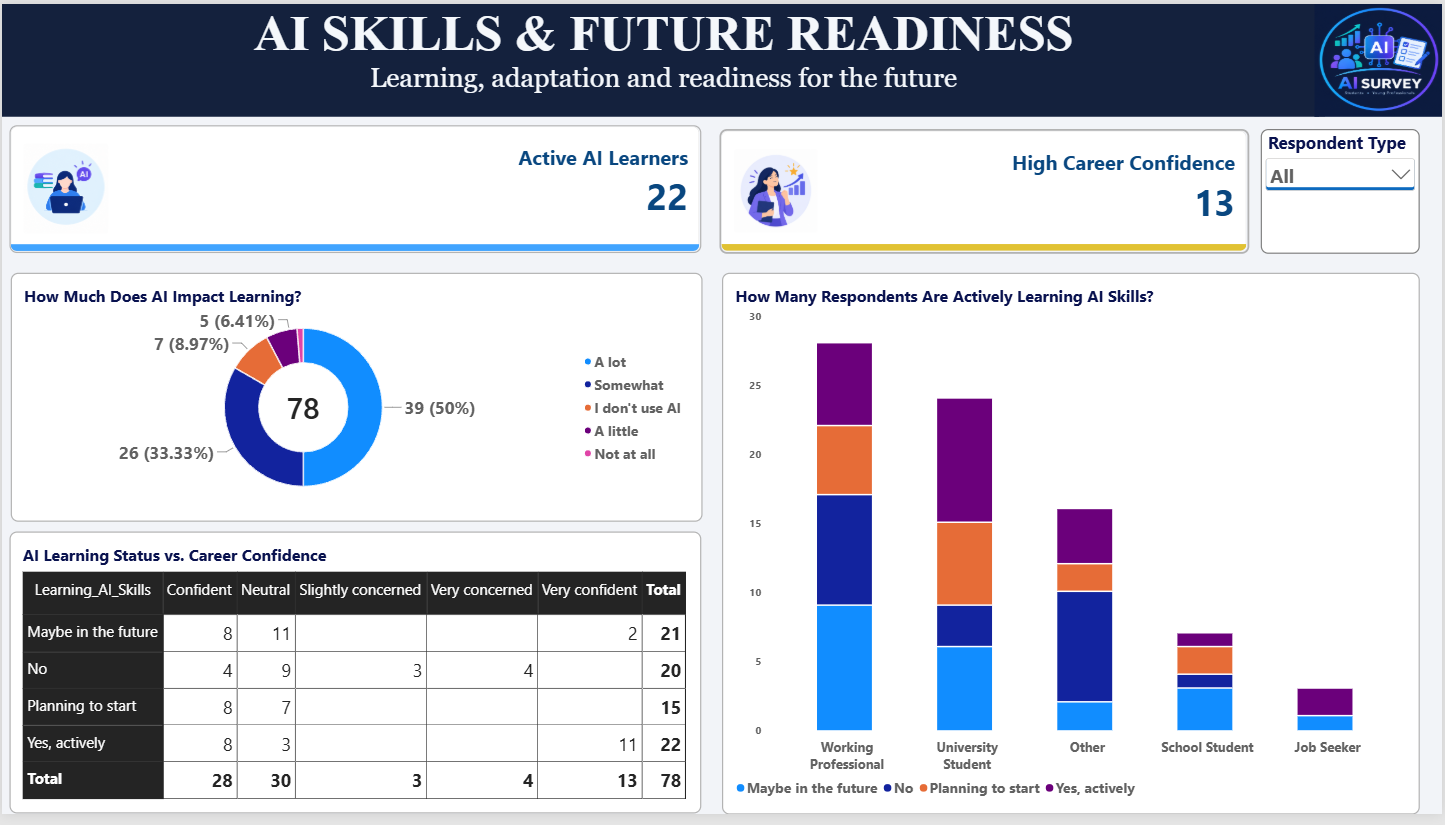

What the dashboard file says about the page in this screenshot:
{"tool":"powerbi","page":{"name":"AI Skills & Future Readiness","canvas":[1920,1080],"ordinal":3},"visuals":[{"type":"textbox","title":"AI SKILLS & FUTURE READINESS","box":[0,0,1764,96],"z":0},{"type":"textbox","title":"Learning, adaptation and readiness for the future","box":[0,78,1764,72],"z":1000},{"type":"cardVisual","fields":{"Data":["AI Survey.Active AI Learners"]},"box":[10,162,922,170],"z":2000},{"type":"cardVisual","fields":{"Data":["AI Survey.High Career Confidence"]},"box":[956,166,706,166],"z":3000},{"type":"donutChart","title":"How Much Does AI Impact Learning? ","fields":{"Category":["AI Survey.AI_Learning_Impact "],"Y":["CountNonNull(AI Survey.Respondent_ID)"]},"box":[12,358,922,332],"z":4000},{"type":"columnChart","title":"How Many Respondents Are Actively Learning AI Skills?","fields":{"Category":["AI Survey.Respondent_Type "],"Series":["AI Survey.Learning_AI_Skills "],"Y":["CountNonNull(AI Survey.Respondent_ID)"]},"box":[960,358,930,722],"z":5000},{"type":"pivotTable","title":"AI Learning Status vs. Career Confidence","fields":{"Columns":["AI Survey.Career_Confidence "],"Rows":["AI Survey.Learning_AI_Skills "],"Values":["CountNonNull(AI Survey.Respondent_ID)"]},"box":[10,704,922,376],"z":6000},{"type":"image","box":[1750,0,170.9,150],"z":7000},{"type":"slicer","fields":{"Values":["AI Survey.Respondent_Type "]},"box":[1678,166,212,166],"z":8000}]}

Visuals, with their boxes in screenshot pixels (x1, y1, x2, y2), scaled from the page's 1920x1080 canvas onto the 1445x825 screenshot:
"AI SKILLS & FUTURE READINESS" textbox: box=[0, 0, 1328, 73]
"Learning, adaptation and readiness for the future" textbox: box=[0, 60, 1328, 115]
cardVisual - AI Survey.Active AI Learners: box=[8, 124, 701, 254]
cardVisual - AI Survey.High Career Confidence: box=[719, 127, 1251, 254]
"How Much Does AI Impact Learning? " donutChart: box=[9, 273, 703, 527]
"How Many Respondents Are Actively Learning AI Skills?" columnChart: box=[722, 273, 1422, 824]
"AI Learning Status vs. Career Confidence" pivotTable: box=[8, 538, 701, 824]
image: box=[1317, 0, 1444, 115]
slicer - AI Survey.Respondent_Type : box=[1263, 127, 1422, 254]
